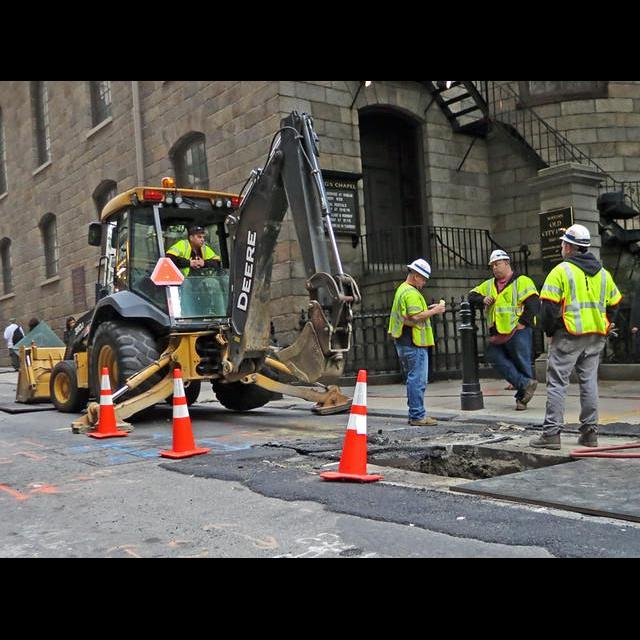Excavator: (17, 112, 363, 434)
Gloves: (606, 326, 619, 338)
Hardhat: (560, 224, 592, 247), (407, 260, 431, 279), (489, 250, 510, 264)
NO-Hardhat: (187, 225, 205, 234), (28, 318, 39, 325), (65, 316, 75, 322), (9, 319, 17, 323)
NO-Mask: (495, 267, 509, 276), (561, 248, 572, 259), (413, 278, 423, 289), (192, 239, 204, 248)
NO-Safety Vest: (7, 325, 23, 347), (64, 328, 71, 342)
Person: (530, 221, 621, 450), (468, 250, 540, 413), (389, 259, 445, 428), (166, 226, 220, 275), (4, 319, 25, 370), (64, 316, 77, 344), (28, 317, 40, 331)
Safety Cone: (321, 371, 384, 483), (161, 372, 210, 461), (89, 369, 128, 439)
Safety Vest: (558, 262, 609, 335), (389, 283, 436, 346), (487, 277, 526, 334), (175, 241, 212, 276)
